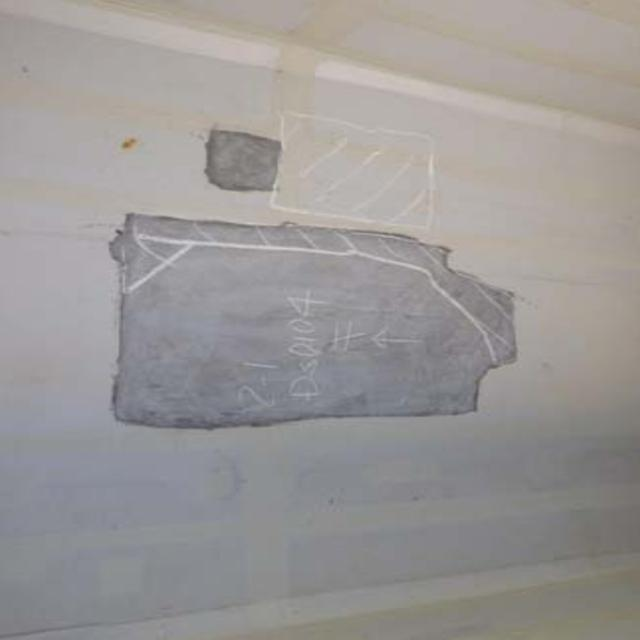spalling: (79, 204, 538, 450), (188, 113, 292, 193)
